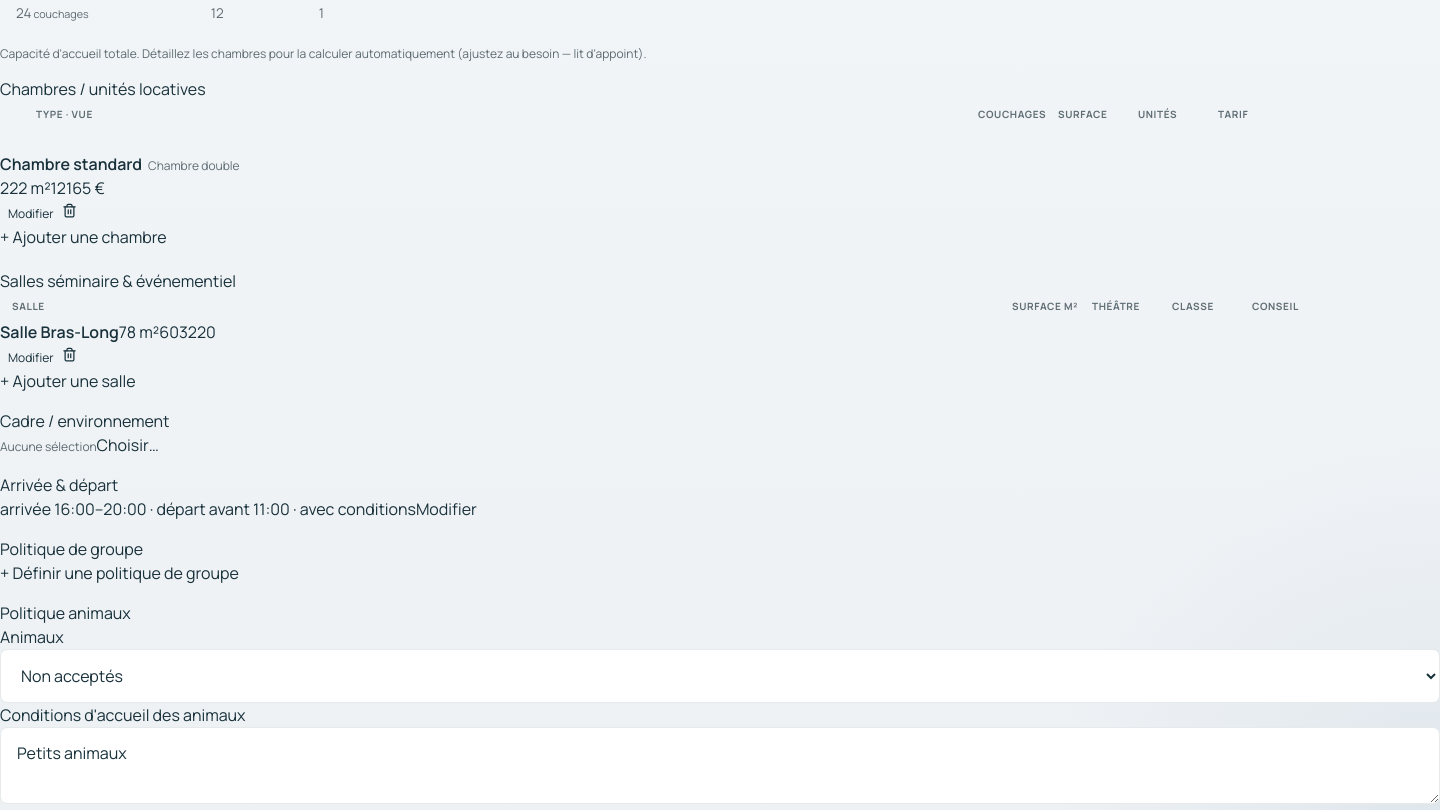
Test: BlockHEB — accueil rapatrié en §06 (§64, §07 masqué pour HEB) › hosts the group policy in §06 as a separate button → modal (§66)
This screenshot has width=1440, height=810.
(page scrolled)
expect the text "Politique de groupe" is shown: met, box [0,538,143,560]
Click the button "+ Définir une politique de groupe".
click(119, 573)  # box [0,561,239,585]
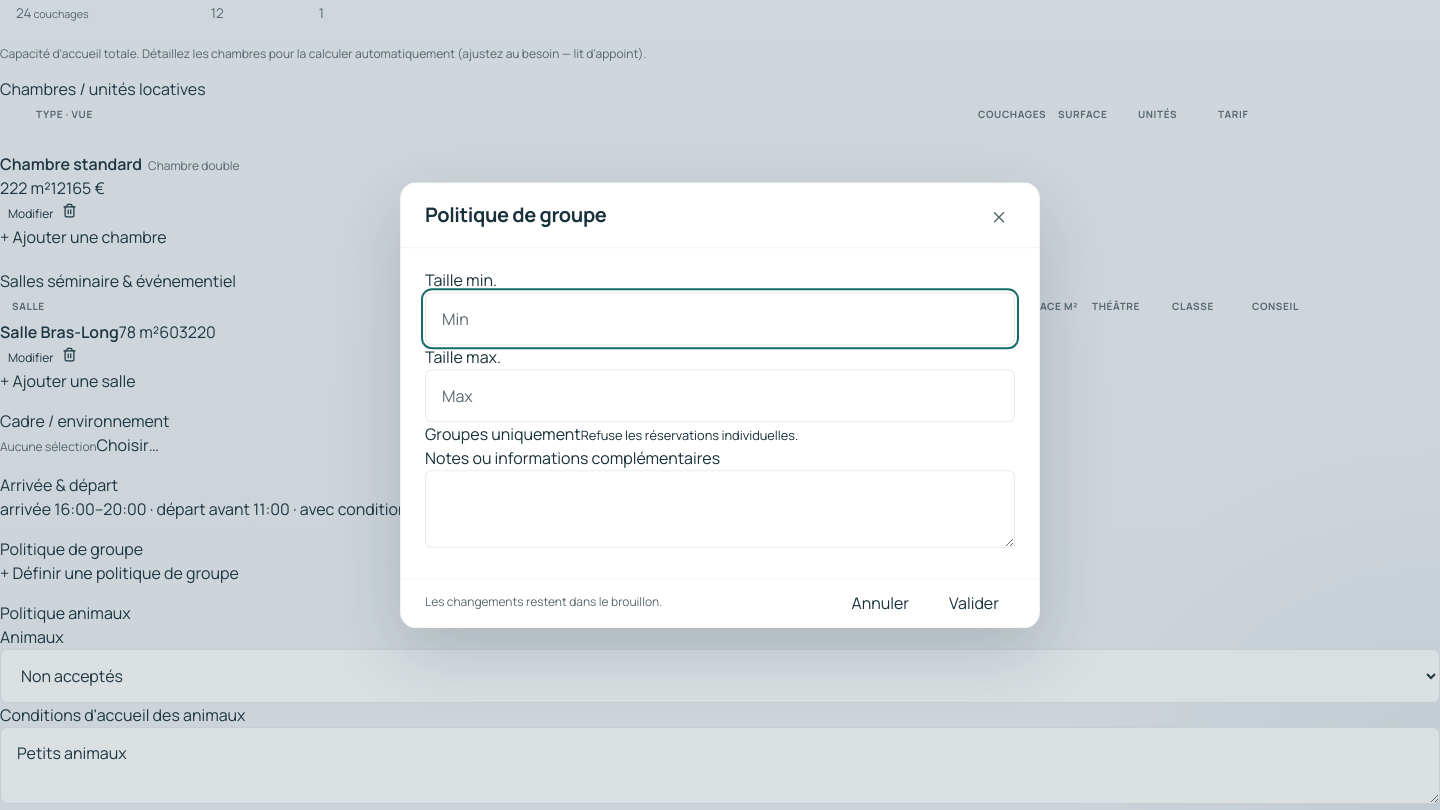
expect the text "Groupes uniquement" is shown: met, box [425,424,581,446]
